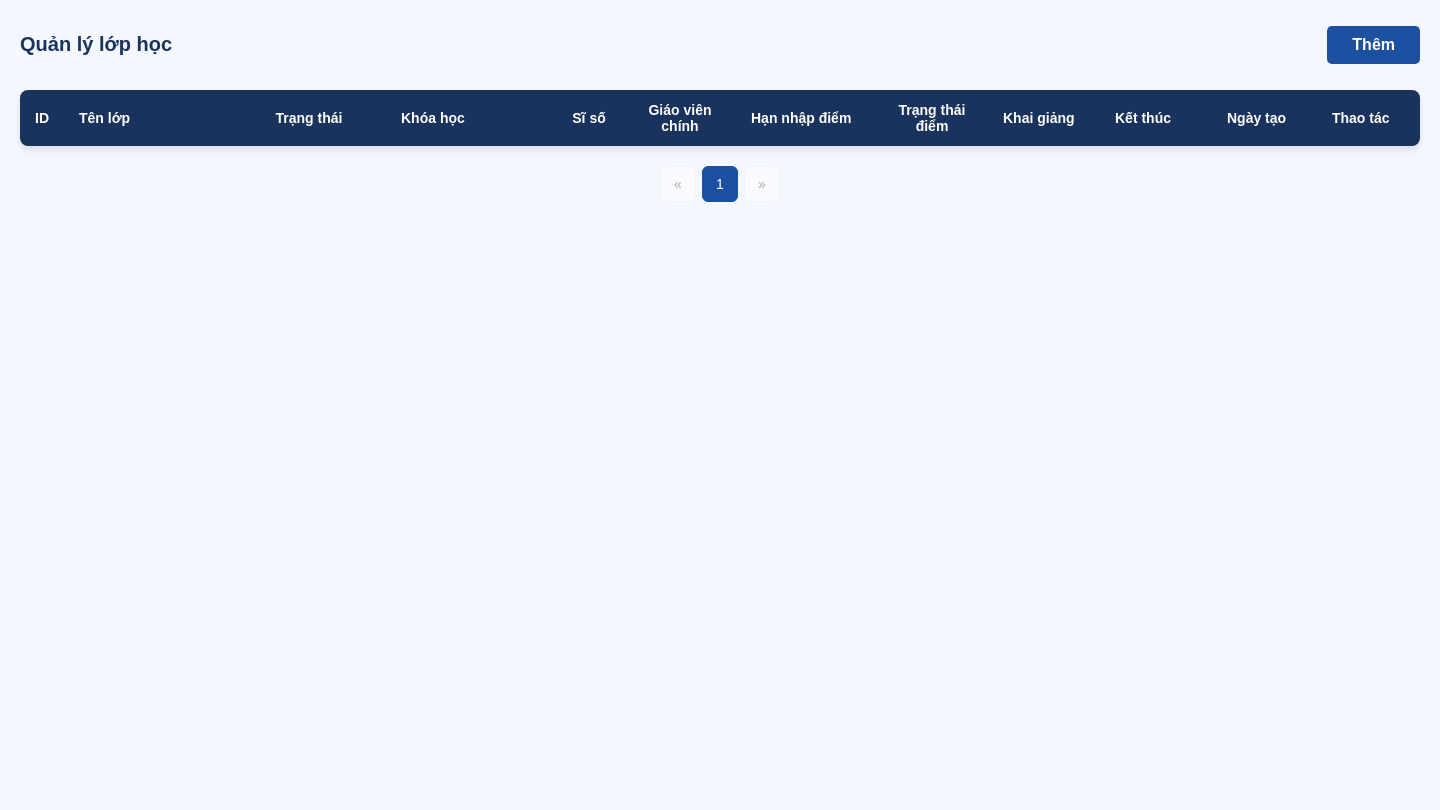
Test: ClassManagement › 3. validate form › CLS-007 hiển thị lỗi khi sĩ số dưới 10 học viên
Click the button "Thêm" at (1374, 45), box [1327,26,1420,64]
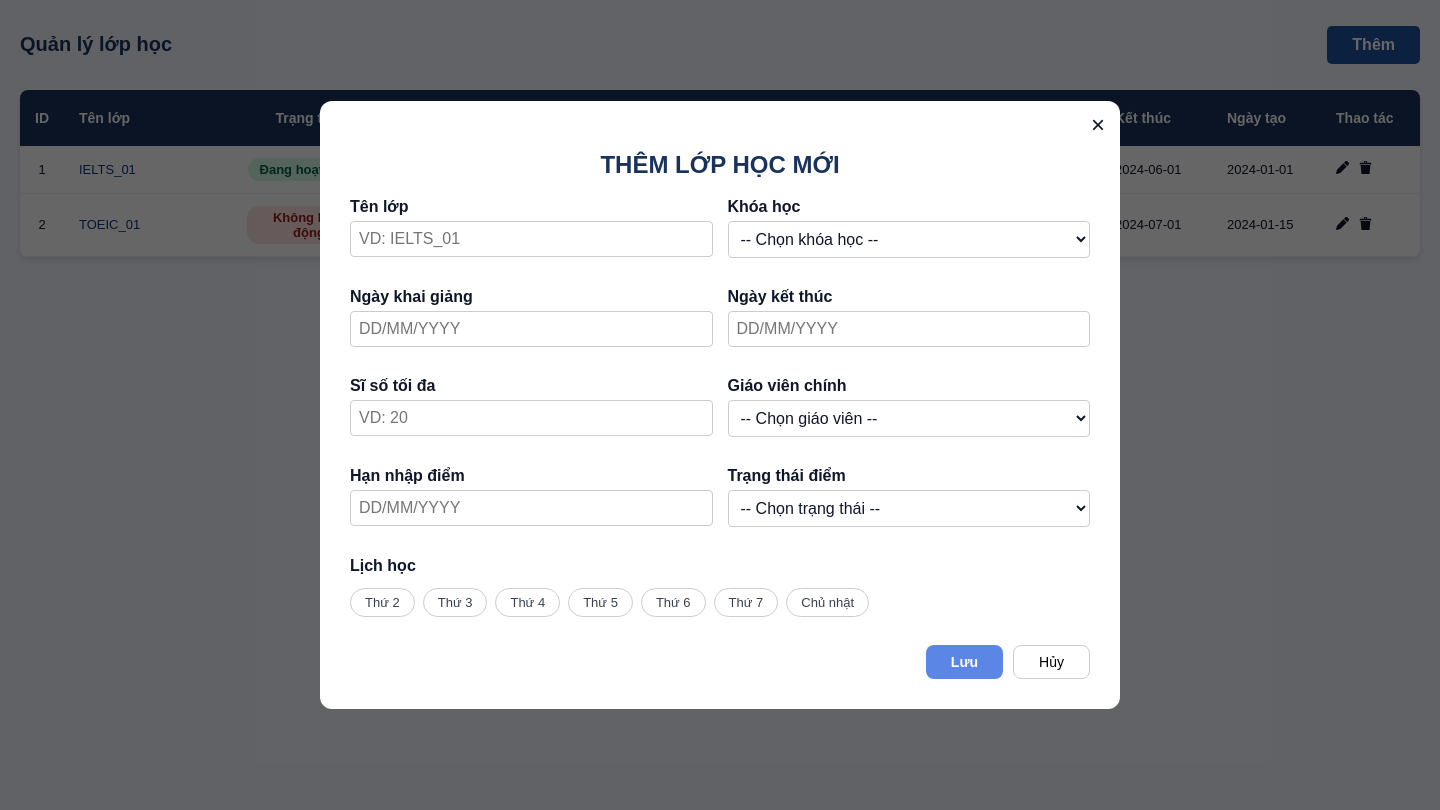
Now the heading "THÊM LỚP HỌC MỚI" is shown, box [600,150,840,178]
Type "IELTS_02" into the field named "name" at (531, 239), box [350,221,712,257]
Select "IELTS Basic" in the 1st dropdown named "course" at (909, 240), box [728,221,1090,258]
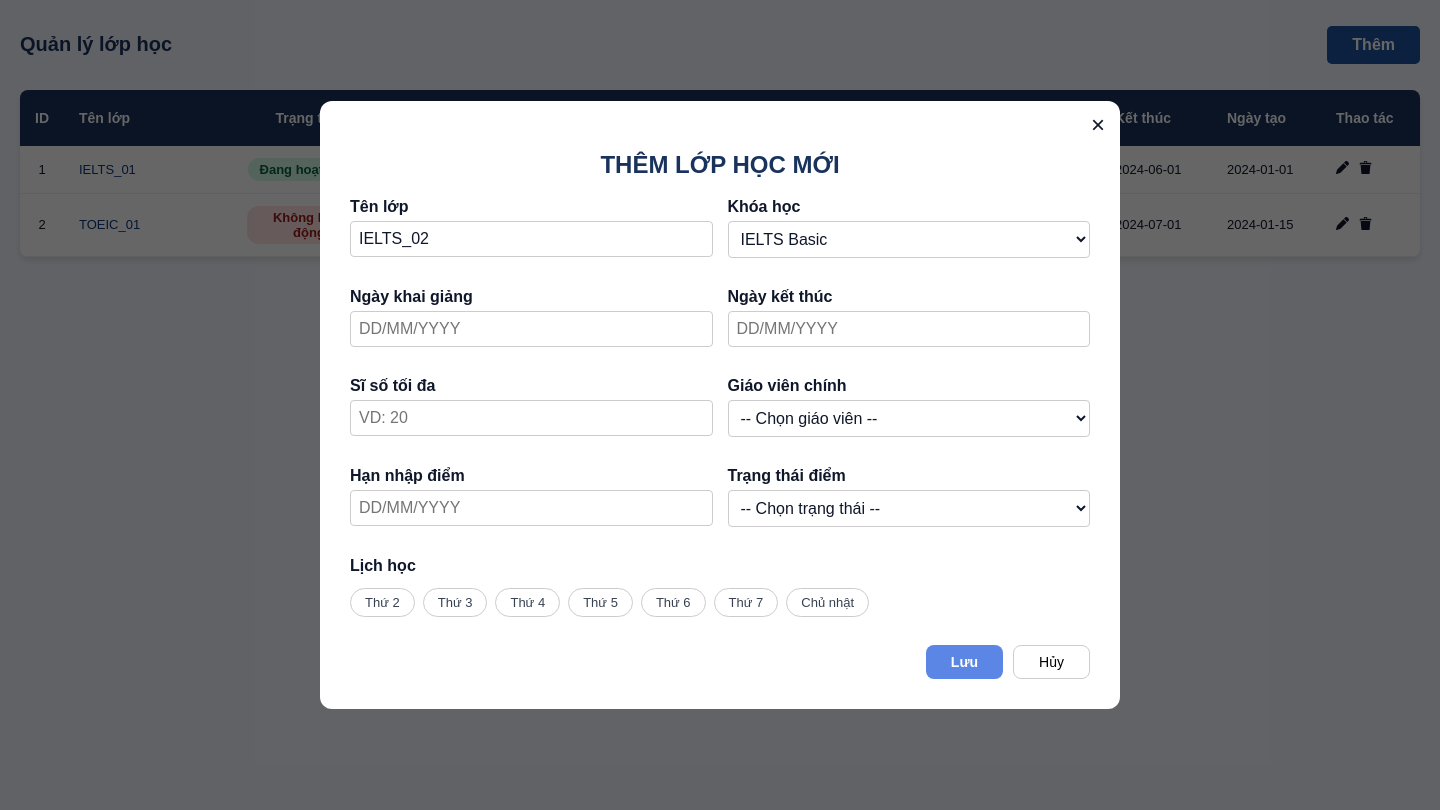
Type "5" into the number field named "capacity" at (531, 418), box [350,400,712,436]
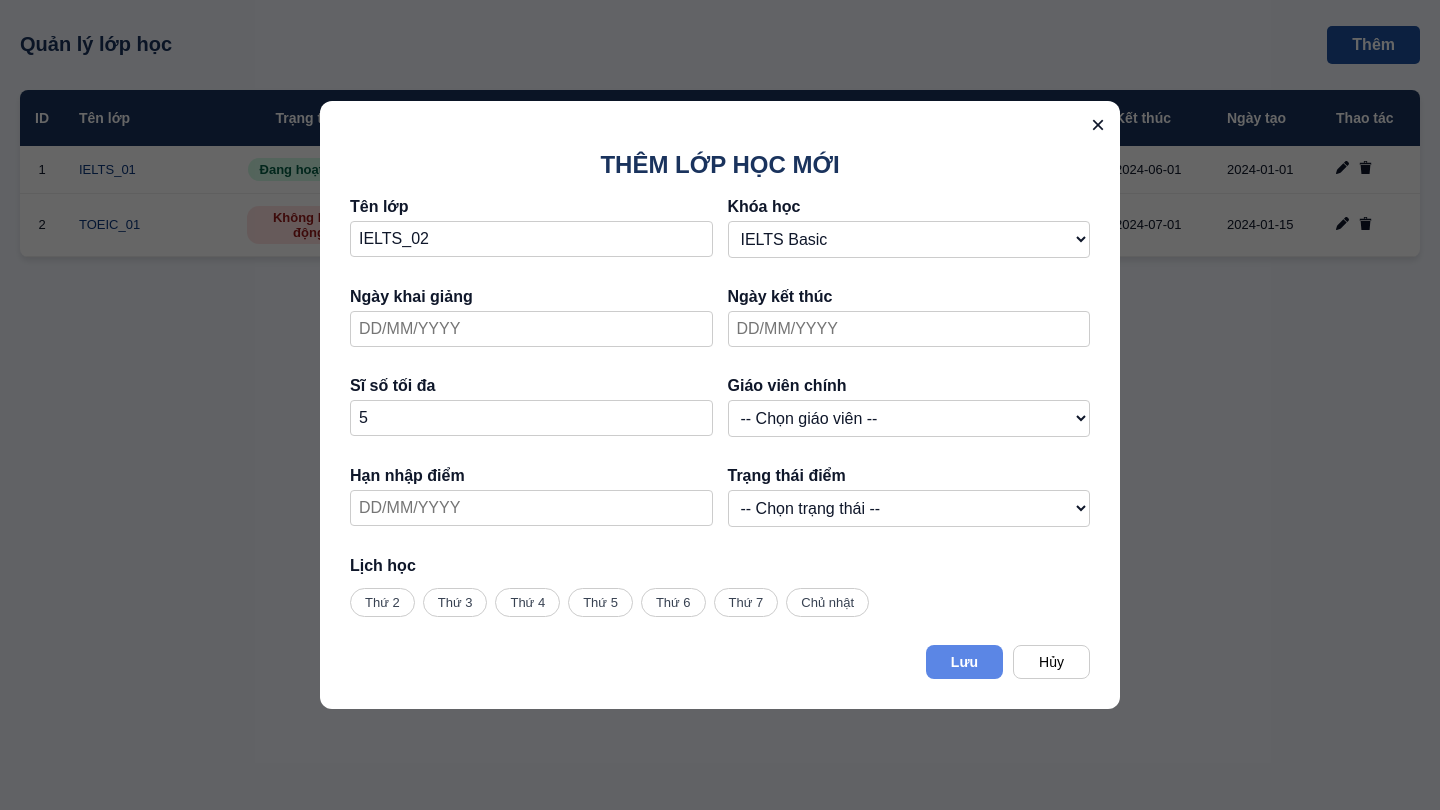
Type "2024-01-01" into the field with placeholder "DD/MM/YYYY" below "Ngày khai giảng" at (531, 329), box [350,311,712,347]
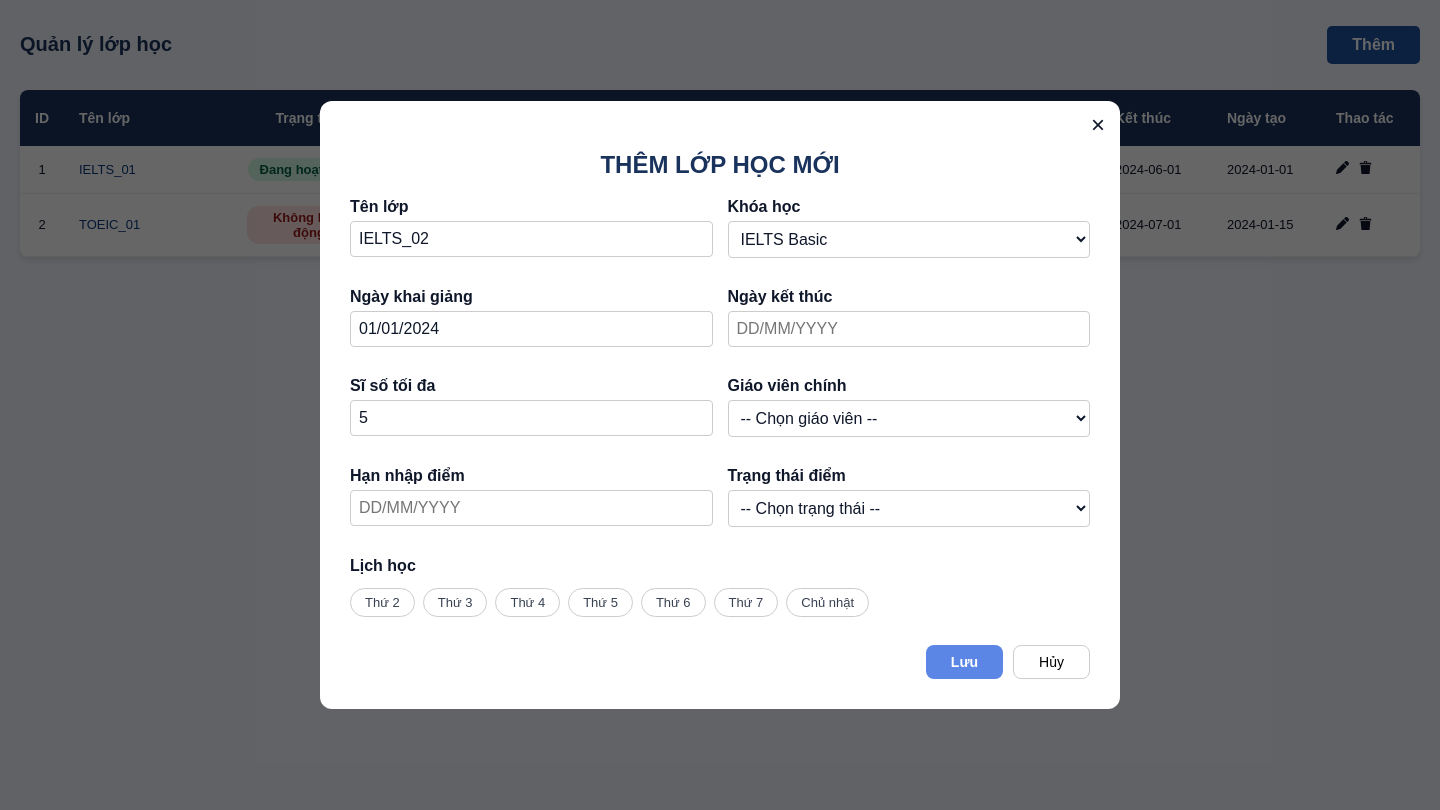
Type "2024-06-01" into the field with placeholder "DD/MM/YYYY" below "Ngày kết thúc" at (909, 329), box [728,311,1090,347]
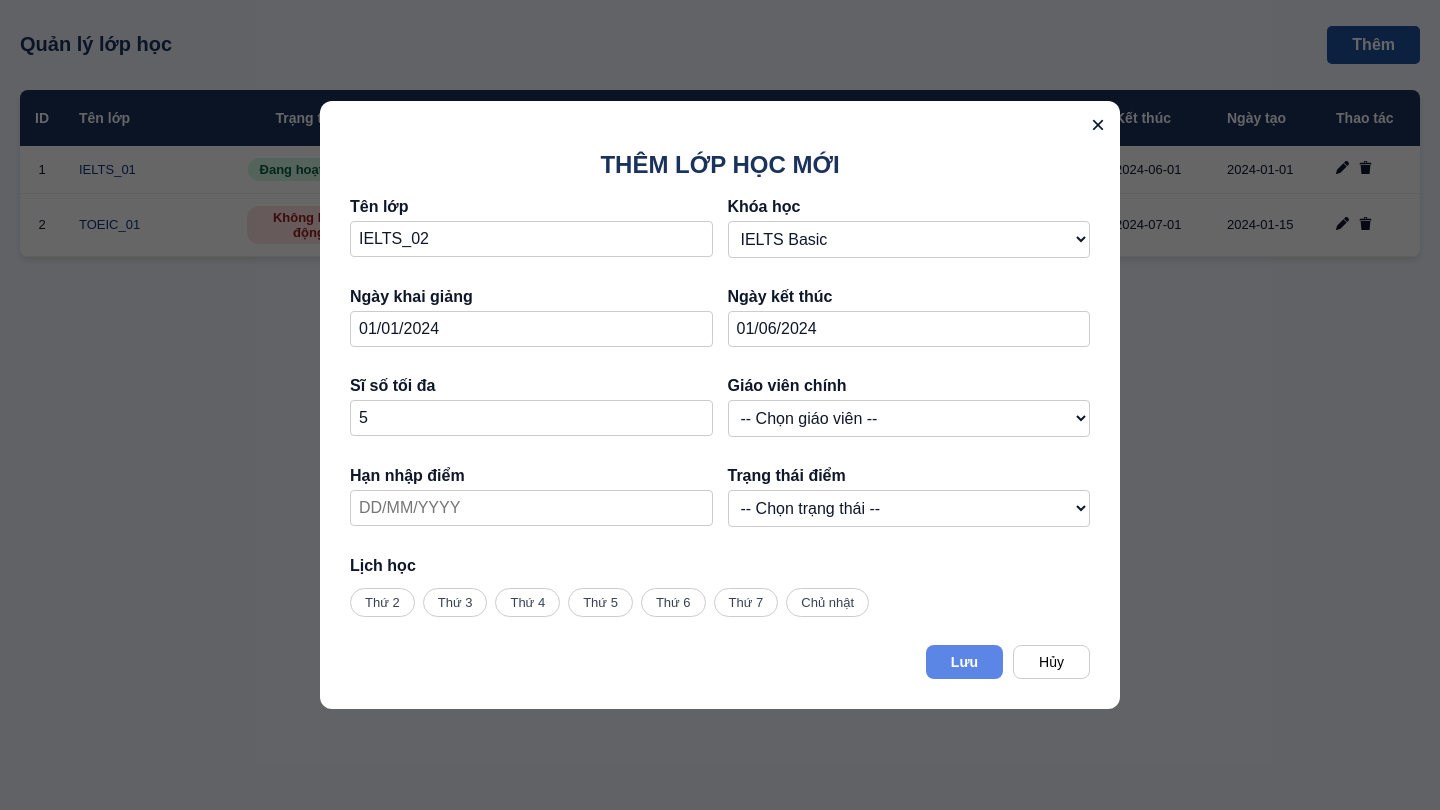
Click the button "Lưu" at (964, 662), box [926,645,1003,679]
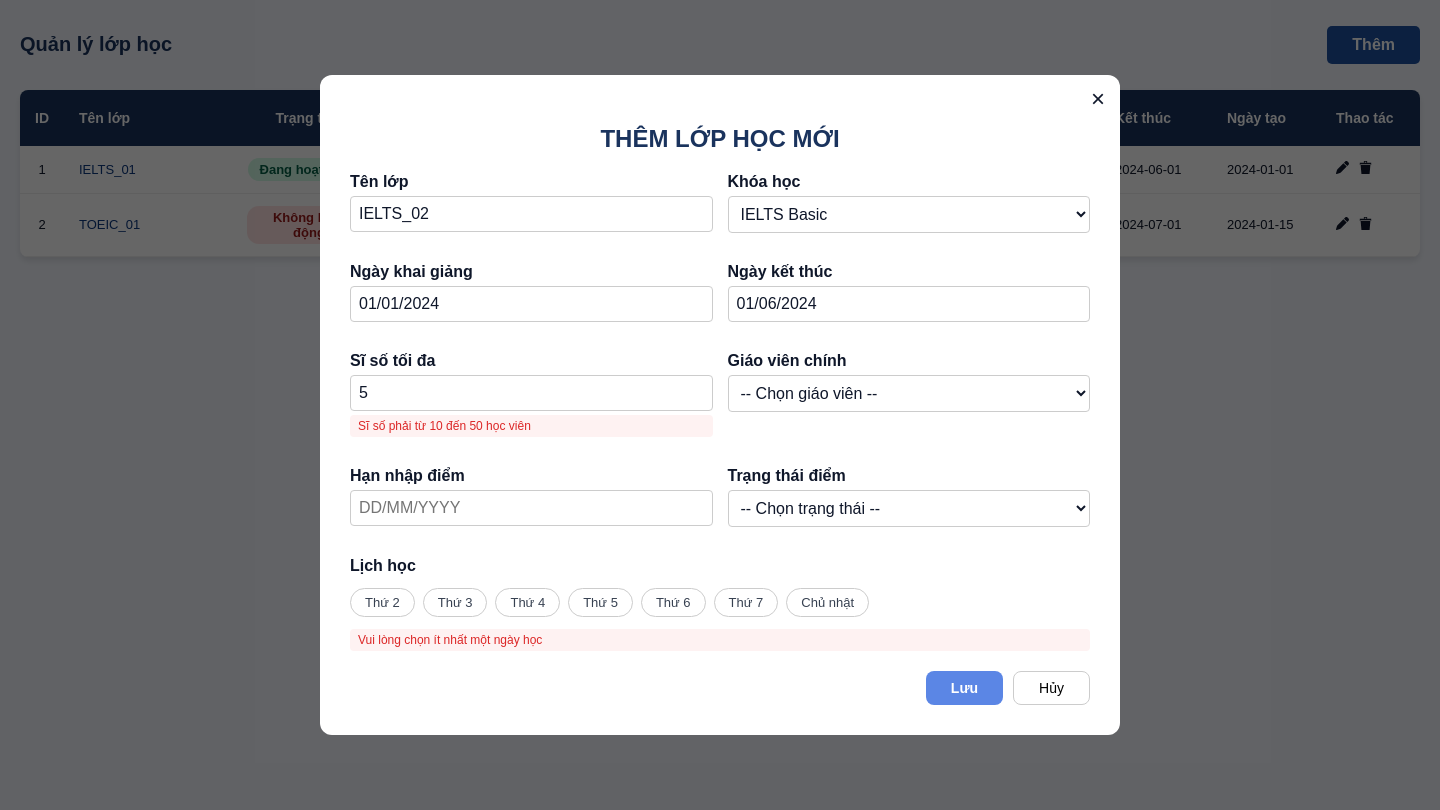
Now the text "Sĩ số phải từ 10 đến 50 học viên" is shown, box [350,415,712,437]
